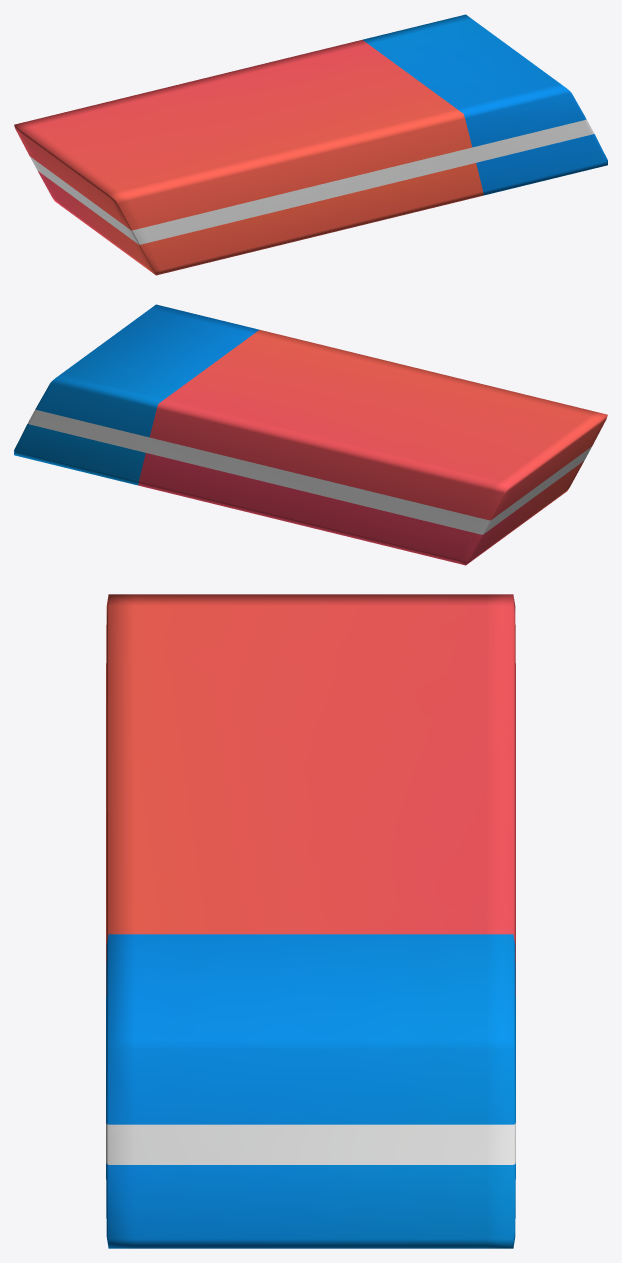
Rendered from Eraser.fbx.
3 views of the same model, one above another, from view 1: azimuth 30°, elevation 25°; view 2: azimuth 150°, elevation 25°; view 3: azimuth 270°, elevation 25° (orthographic). The views are drawn at different scales.
Parts seen in each view (by area): view 1: Eraser; view 2: Eraser; view 3: Eraser.
Boxes of the visible parts, x1,y1,x2,y2 form: Eraser: (14,14,607,275); Eraser: (14,304,607,565); Eraser: (106,594,515,1248).
Bounding box in the file's own units: 375 × 63.09 × 135.
